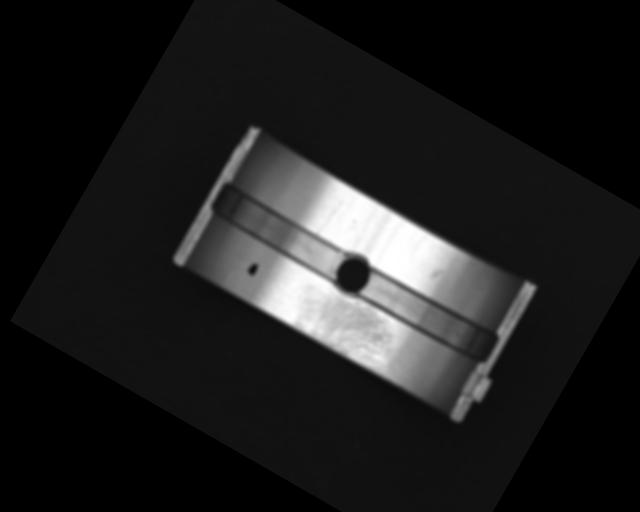blot: (244, 259, 261, 278)
bruise: (428, 264, 447, 283)
gap: (353, 263, 501, 369), (207, 181, 351, 284)
hole: (326, 245, 379, 303)
nick: (315, 205, 338, 238)
scratch: (283, 271, 409, 376)
